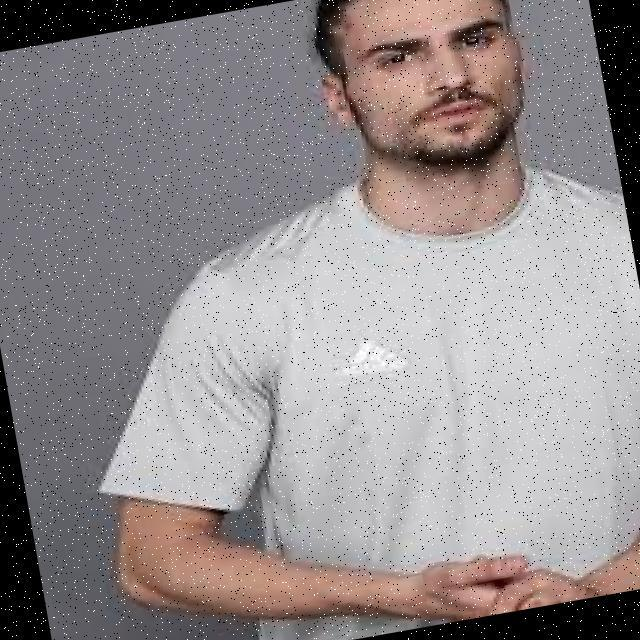Adidas: (329, 329, 410, 387)
